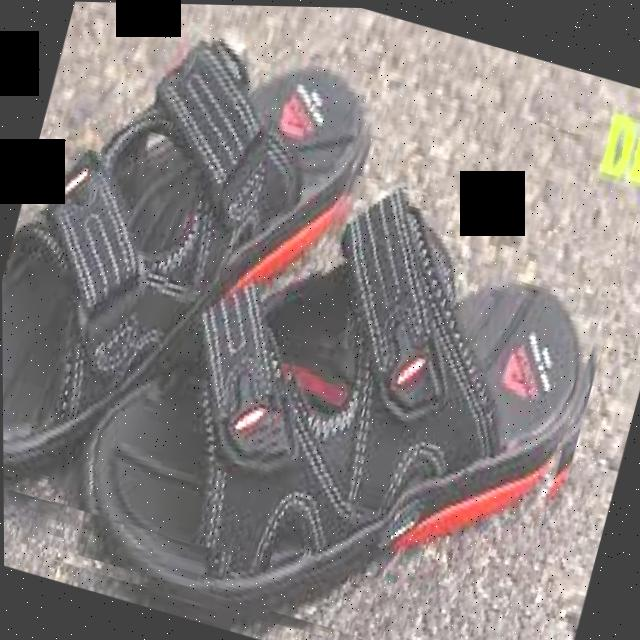shoe: (0, 0, 640, 640), (70, 122, 621, 640), (0, 0, 385, 563)
